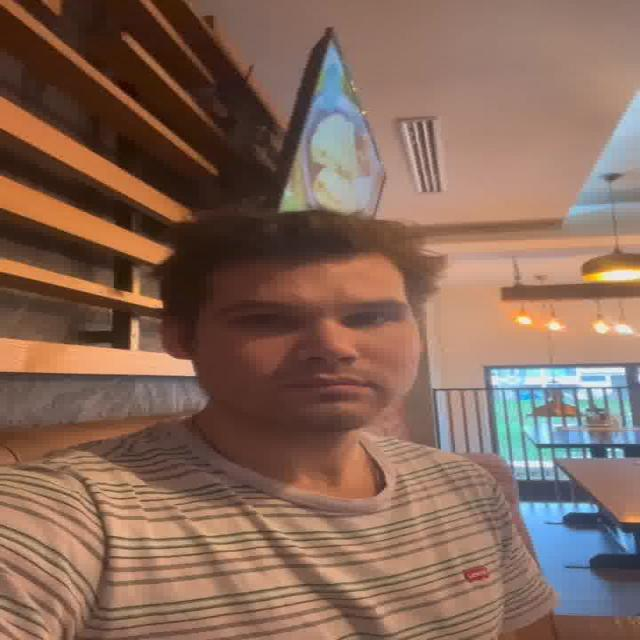earlobe: (158, 317, 195, 360)
